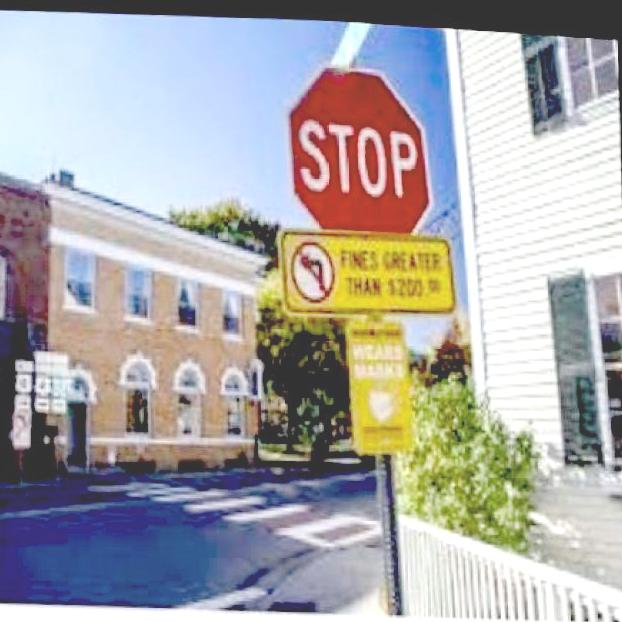stop_sign: (283, 54, 434, 236)
